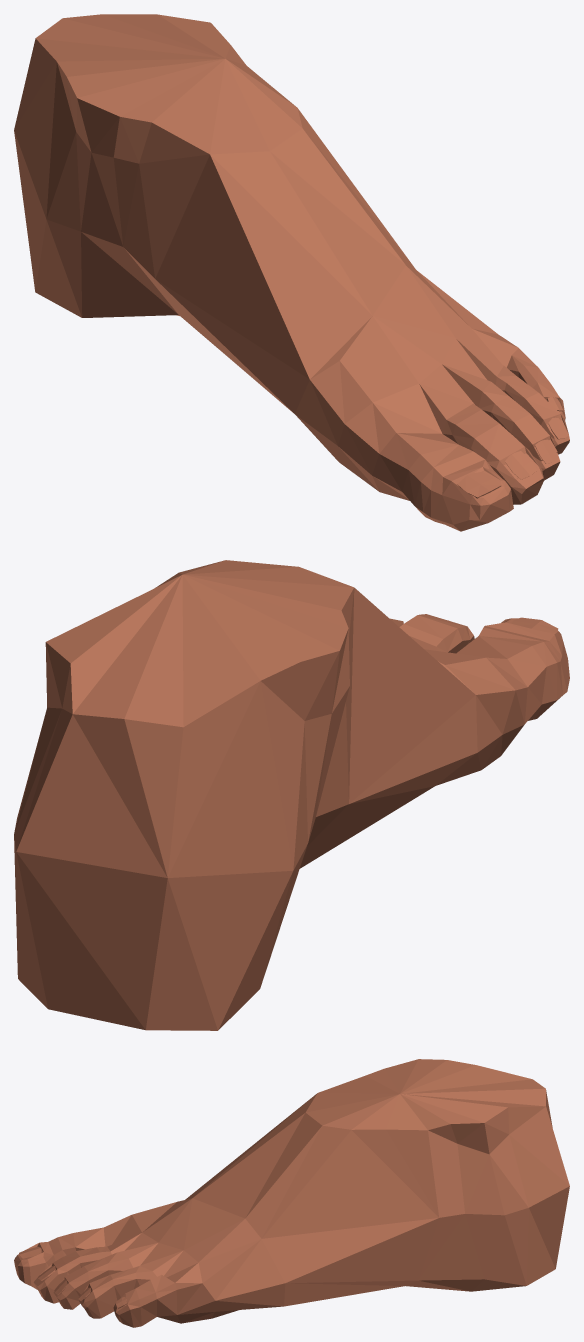
The model's file is foot_left.dae.
The picture shows the model from 3 angles, top to bottom: view 1: azimuth 30°, elevation 25°; view 2: azimuth 150°, elevation 25°; view 3: azimuth 270°, elevation 25°; orthographic projection. The views are drawn at different scales.
Visible parts, largest first — view 1: Foot; view 2: Foot; view 3: Foot.
Boxes of the visible parts, <box> form: Foot: <box>14,14,569,531</box>; Foot: <box>14,560,569,1030</box>; Foot: <box>14,1059,569,1327</box>.
Size of the model in its own units: 0.656 by 1.61 by 0.623.
